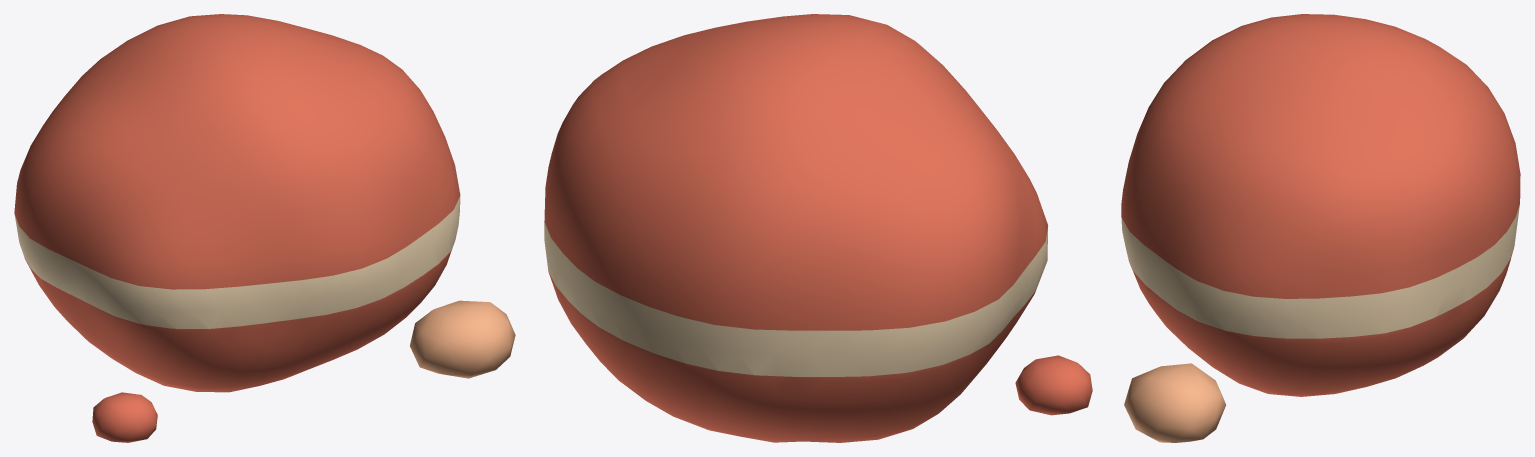
File: prop_boulder_red.glb
The picture shows the model from 3 angles, left to right: view 1: azimuth 30°, elevation 25°; view 2: azimuth 150°, elevation 25°; view 3: azimuth 270°, elevation 25°; orthographic projection. The views are drawn at different scales.
Visible parts, largest first — view 1: prop_boulder_red; view 2: prop_boulder_red; view 3: prop_boulder_red.
Part boxes in pixels (x1,y1,x2,y2): prop_boulder_red: (14, 14, 515, 442); prop_boulder_red: (544, 14, 1092, 442); prop_boulder_red: (1121, 14, 1520, 442).
Bounding box in the file's own units: 0.9152 × 0.6996 × 0.7819.
